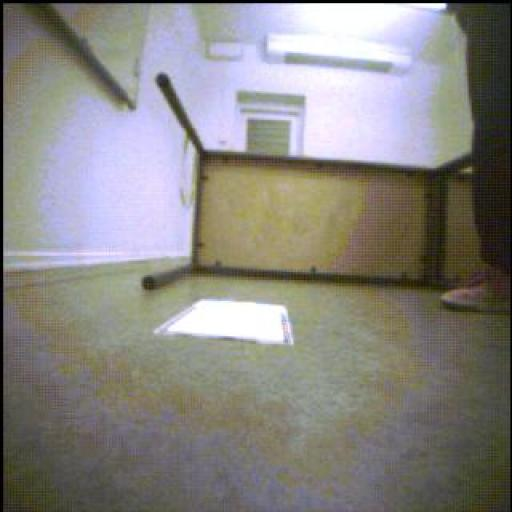Pad: (155, 300, 296, 347)
